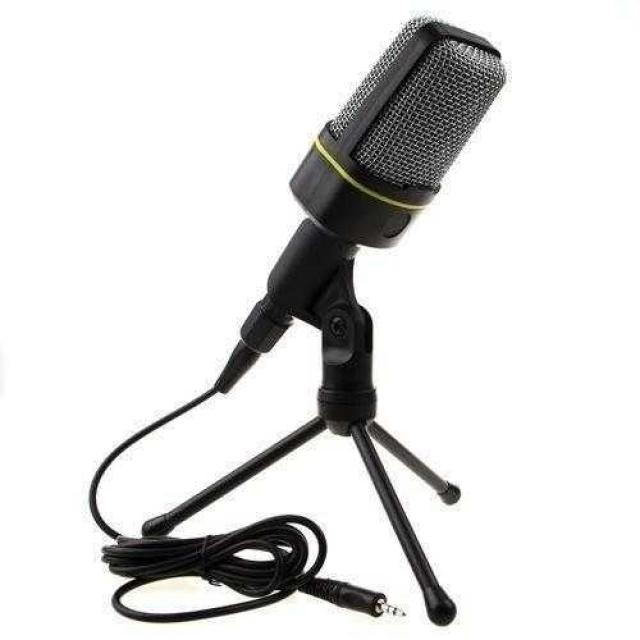microphone: (304, 0, 573, 343)
